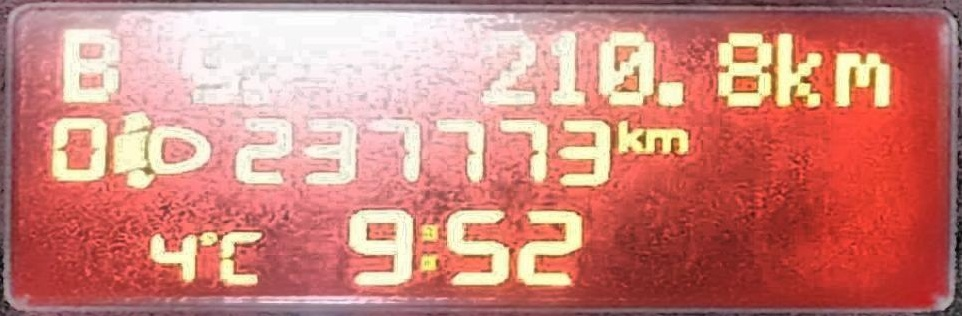-: (655, 79, 686, 107)
0: (596, 30, 653, 106), (46, 116, 109, 183)
1: (546, 27, 585, 106)
2: (514, 209, 584, 286), (472, 28, 537, 107), (231, 116, 291, 185)
3: (296, 116, 359, 187), (554, 119, 613, 187)
4: (146, 231, 198, 282)
5: (444, 209, 511, 286)
7: (431, 118, 488, 185), (368, 117, 423, 182), (495, 118, 549, 184)
8: (711, 30, 773, 107)
9: (345, 207, 415, 286)
X: (58, 25, 122, 102), (773, 27, 822, 108), (831, 51, 892, 107), (215, 229, 265, 287), (417, 221, 441, 273), (614, 120, 647, 155), (645, 128, 687, 155)
